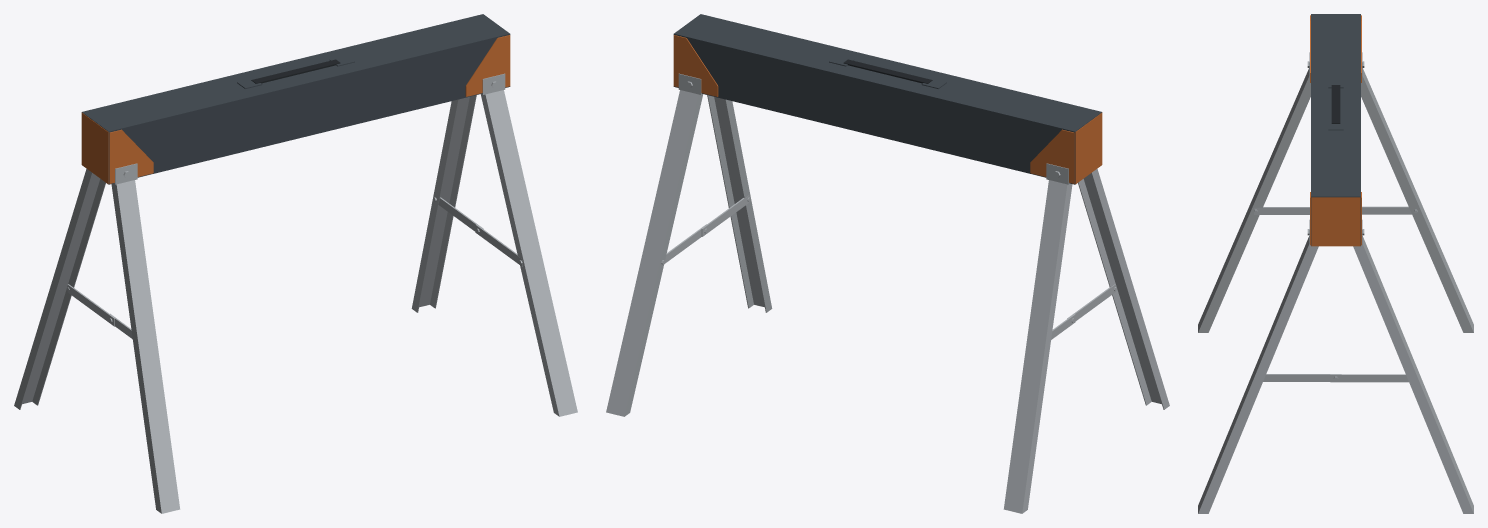
3 views of the same model, side by side, from view 1: azimuth 30°, elevation 25°; view 2: azimuth 150°, elevation 25°; view 3: azimuth 270°, elevation 25° (orthographic). The views are drawn at different scales.
Visible parts, largest first — view 1: Inverted_U_beam_with_lower_returns, Left_front_stamped_U_channel_leg, Right_front_stamped_U_channel_leg, Left_rear_stamped_U_channel_leg, Right_rear_stamped_U_channel_leg, Left_beam_end_closure, Right_front_sloped_hinge_cheek, Left_front_sloped_hinge_cheek; view 2: Inverted_U_beam_with_lower_returns, Left_rear_stamped_U_channel_leg, Right_rear_stamped_U_channel_leg, Left_front_stamped_U_channel_leg, Right_front_stamped_U_channel_leg, Left_beam_end_closure, Right_rear_sloped_hinge_cheek, Left_rear_sloped_hinge_cheek; view 3: Inverted_U_beam_with_lower_returns, Right_front_stamped_U_channel_leg, Right_rear_stamped_U_channel_leg, Left_rear_stamped_U_channel_leg, Left_front_stamped_U_channel_leg, Right_beam_end_closure, Right_rear_spreader_leaf, Right_front_spreader_leaf, Left_front_spreader_leaf, Left_rear_spreader_leaf, Low_profile_carry_strap.
Boxes of the visible parts, x1=… form: Inverted_U_beam_with_lower_returns: x1=81, y1=14, x2=510, y2=184; Left_front_stamped_U_channel_leg: x1=111, y1=180, x2=180, y2=513; Right_front_stamped_U_channel_leg: x1=480, y1=90, x2=577, y2=416; Left_rear_stamped_U_channel_leg: x1=14, y1=168, x2=105, y2=409; Right_rear_stamped_U_channel_leg: x1=411, y1=95, x2=476, y2=312; Left_beam_end_closure: x1=81, y1=113, x2=108, y2=184; Right_front_sloped_hinge_cheek: x1=465, y1=35, x2=510, y2=96; Left_front_sloped_hinge_cheek: x1=109, y1=129, x2=153, y2=183; Inverted_U_beam_with_lower_returns: x1=673, y1=14, x2=1102, y2=184; Left_rear_stamped_U_channel_leg: x1=1003, y1=180, x2=1072, y2=513; Right_rear_stamped_U_channel_leg: x1=606, y1=90, x2=703, y2=416; Left_front_stamped_U_channel_leg: x1=1078, y1=168, x2=1169, y2=409; Right_front_stamped_U_channel_leg: x1=707, y1=95, x2=772, y2=312; Left_beam_end_closure: x1=1075, y1=113, x2=1102, y2=184; Right_rear_sloped_hinge_cheek: x1=673, y1=35, x2=718, y2=96; Left_rear_sloped_hinge_cheek: x1=1030, y1=129, x2=1074, y2=183; Inverted_U_beam_with_lower_returns: x1=1311, y1=14, x2=1360, y2=245; Right_front_stamped_U_channel_leg: x1=1198, y1=236, x2=1318, y2=513; Right_rear_stamped_U_channel_leg: x1=1353, y1=236, x2=1473, y2=513; Left_rear_stamped_U_channel_leg: x1=1361, y1=68, x2=1473, y2=332; Left_front_stamped_U_channel_leg: x1=1198, y1=68, x2=1310, y2=332; Right_beam_end_closure: x1=1311, y1=197, x2=1360, y2=246; Right_rear_spreader_leaf: x1=1330, y1=374, x2=1408, y2=382; Right_front_spreader_leaf: x1=1263, y1=374, x2=1341, y2=381; Left_front_spreader_leaf: x1=1254, y1=207, x2=1309, y2=214; Left_rear_spreader_leaf: x1=1362, y1=206, x2=1411, y2=214; Low_profile_carry_strap: x1=1331, y1=85, x2=1340, y2=123.
Size of the model in its own units: 0.935 by 0.7249 by 0.5751.
